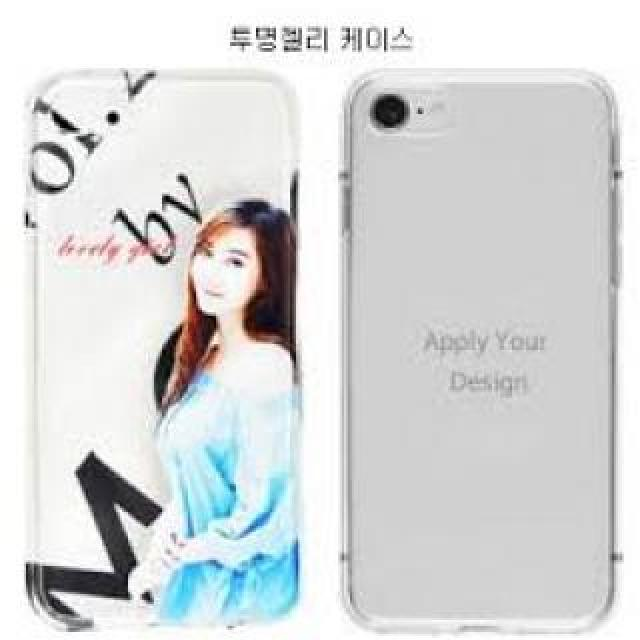smart phone: (336, 30, 632, 625), (22, 35, 313, 625)
